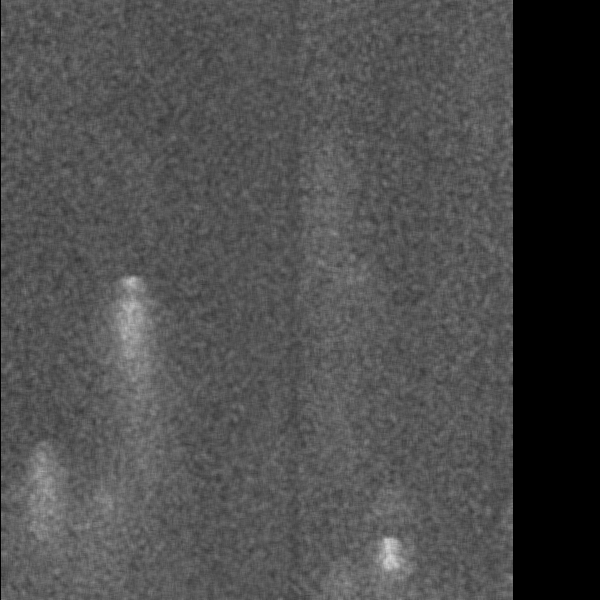spark: (110, 270, 146, 489), (28, 436, 58, 578), (375, 532, 404, 597)
